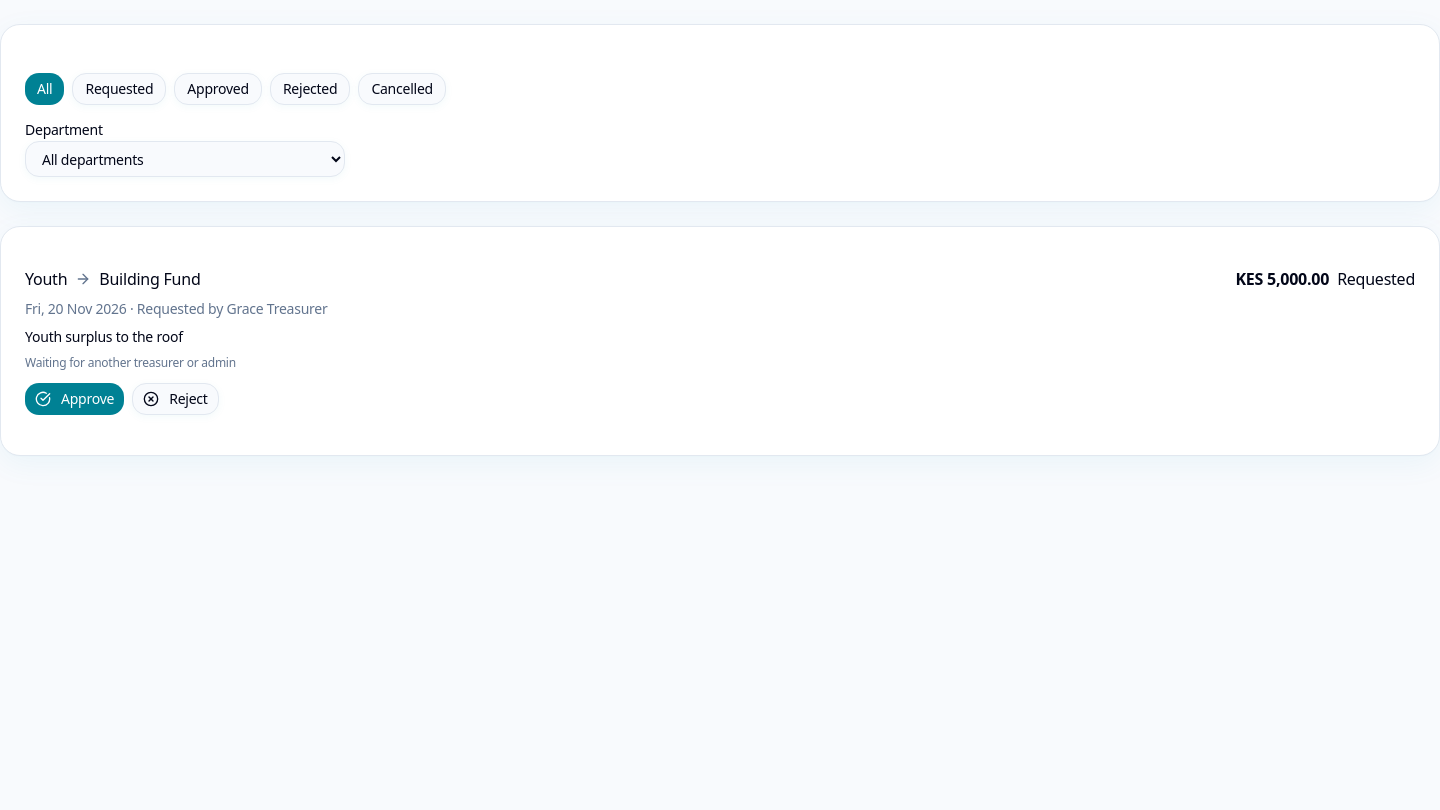
Test: row actions › reject needs a note
This screenshot has width=1440, height=810.
Click the button "Reject": [175, 399] box [132,383,219,415]
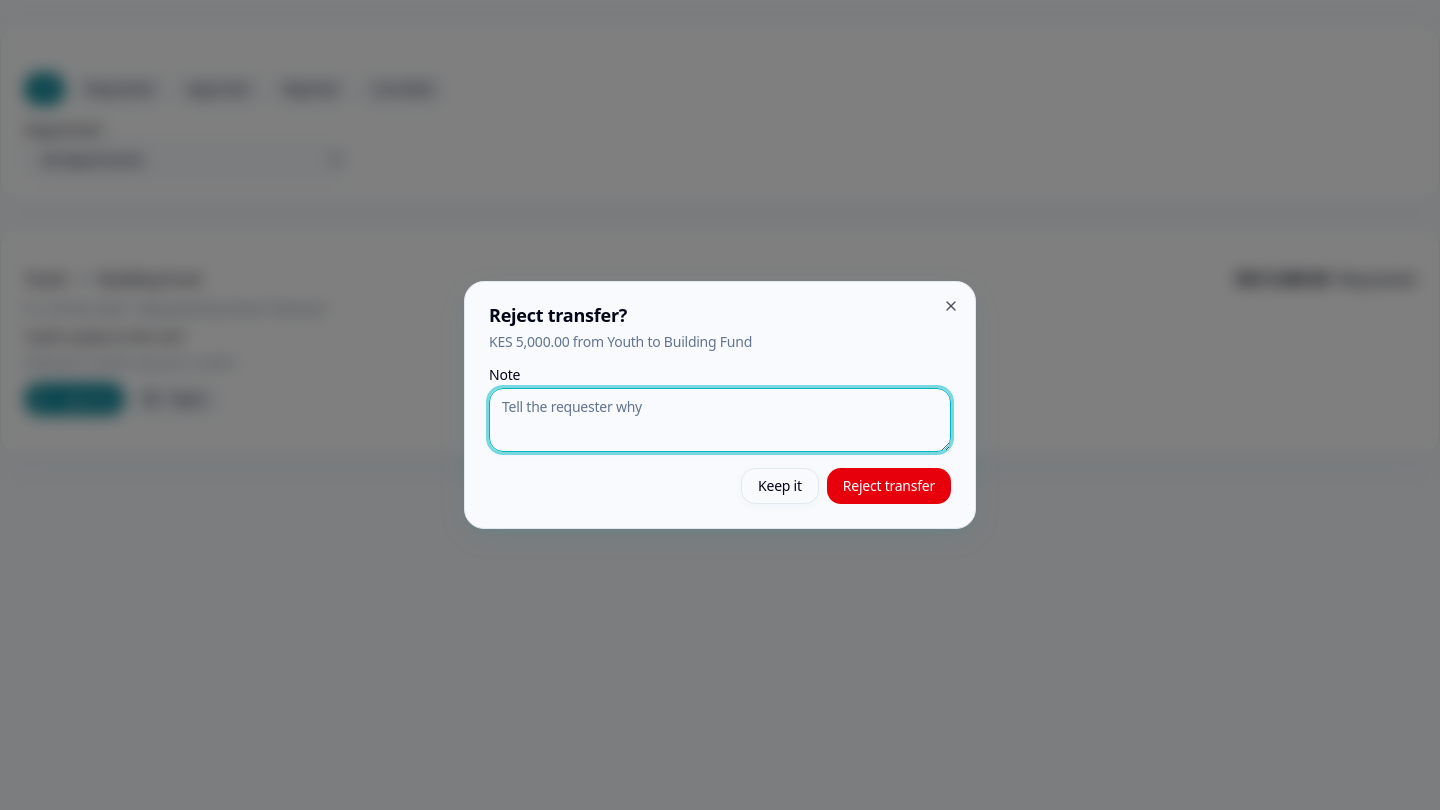
Click the button "Reject transfer": [889, 486] box [827,468,951,504]
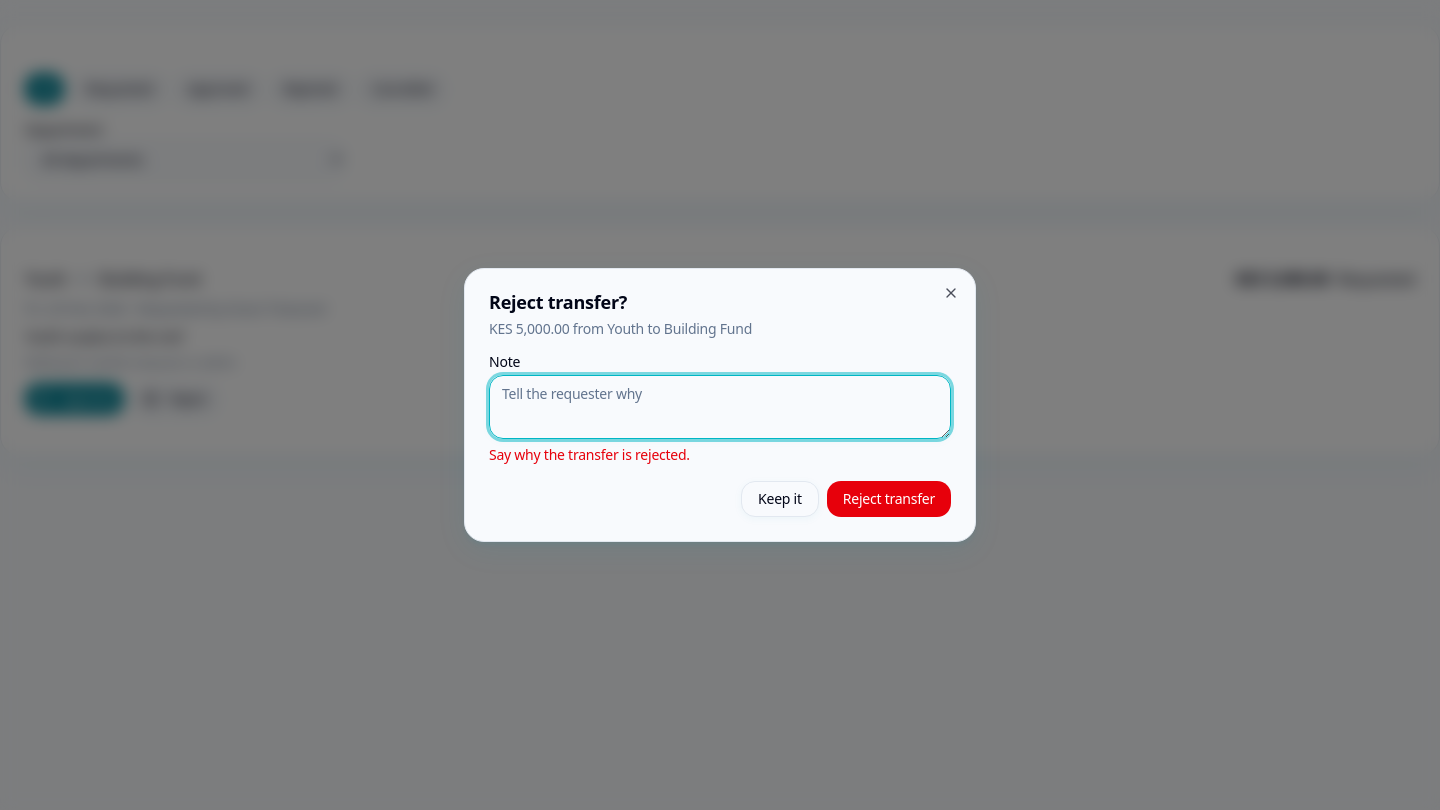
Expected: the message reads "Say why the transfer is rejected.", [489,445,690,464]
In the text box labelled "Note": [720, 407] box [489,375,951,439], type "Not this year"
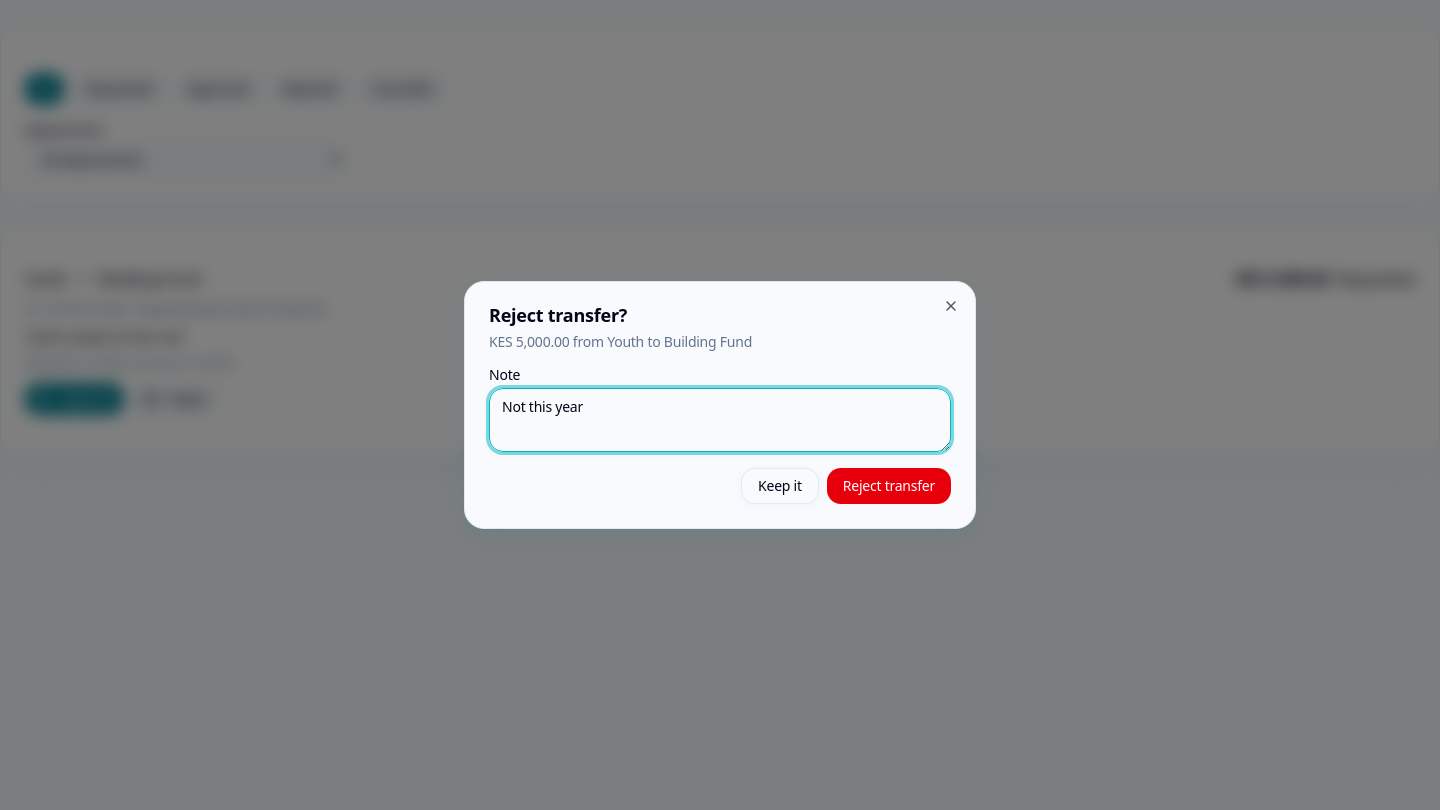
Click the button "Reject transfer": [889, 486] box [827,468,951,504]
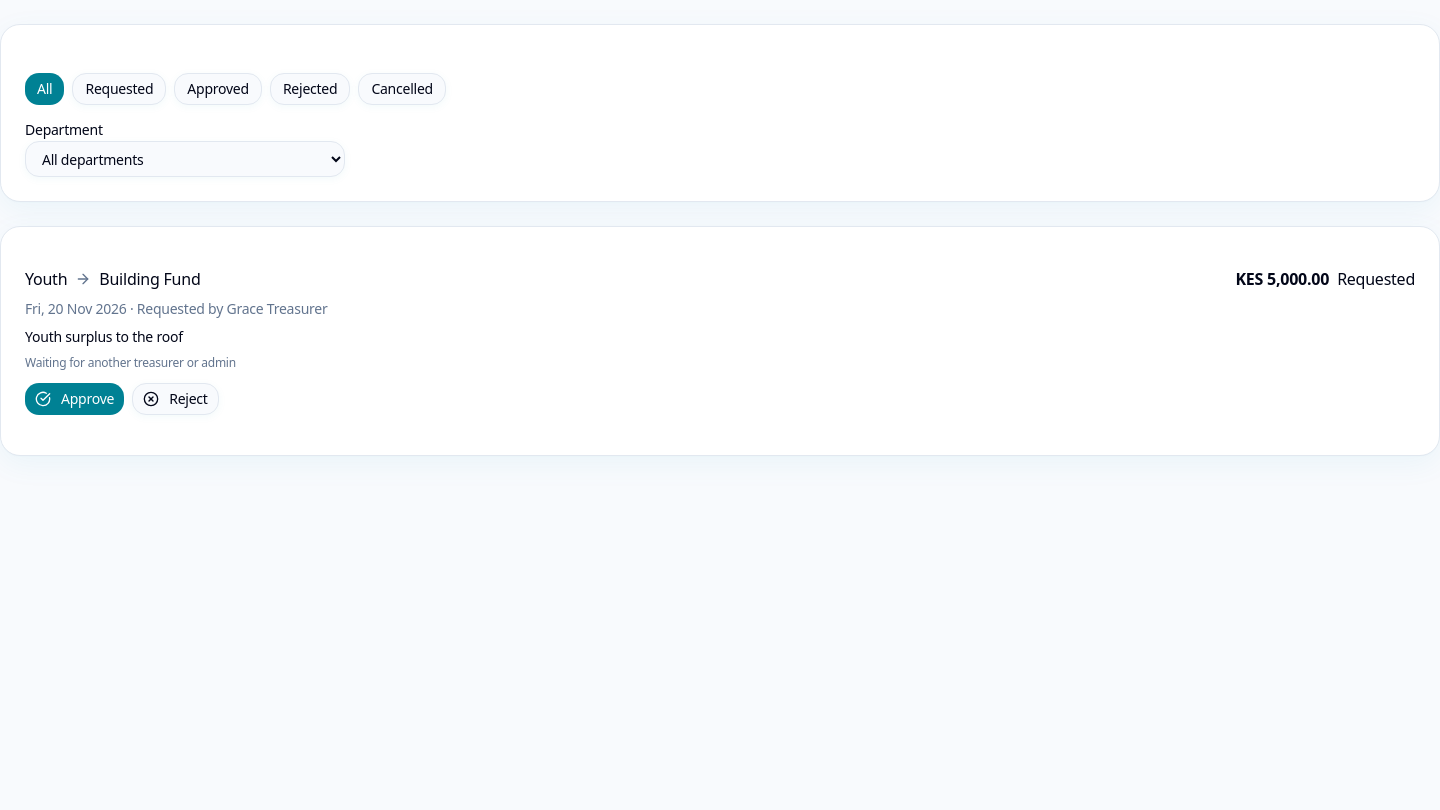
Expected: the dialog is gone
